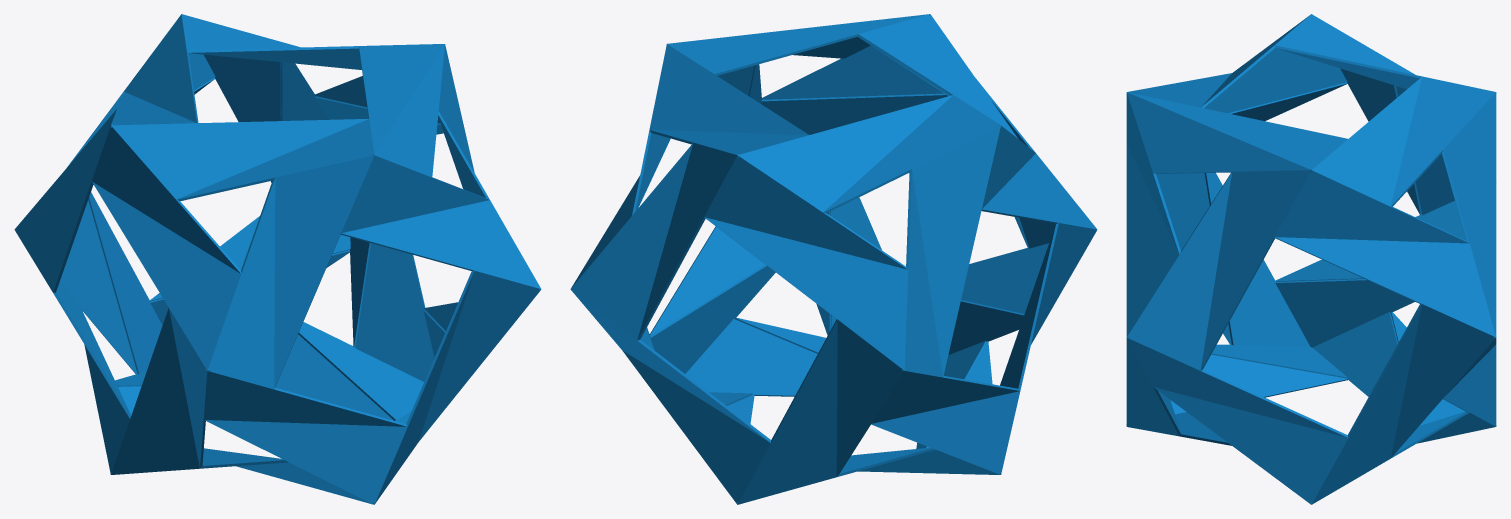
Rendered from Cuboctahedron.glb.
3 renders of one model, left to right at view 1: azimuth 30°, elevation 25°; view 2: azimuth 150°, elevation 25°; view 3: azimuth 270°, elevation 25°, orthographic. The views are drawn at different scales.
Parts seen in each view (by area): view 1: root; view 2: root; view 3: root.
Boxes of the visible parts, box(x1,y1,x2,y2) form: root: box(14, 14, 541, 504); root: box(570, 14, 1097, 504); root: box(1126, 14, 1496, 504).
Size of the model in its own units: 7.22 by 7.22 by 7.22.
